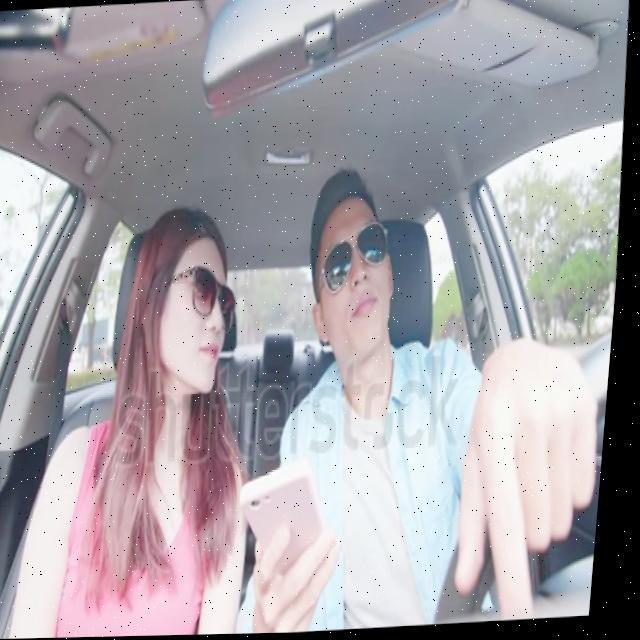PhoneCall: (240, 454, 338, 582)
